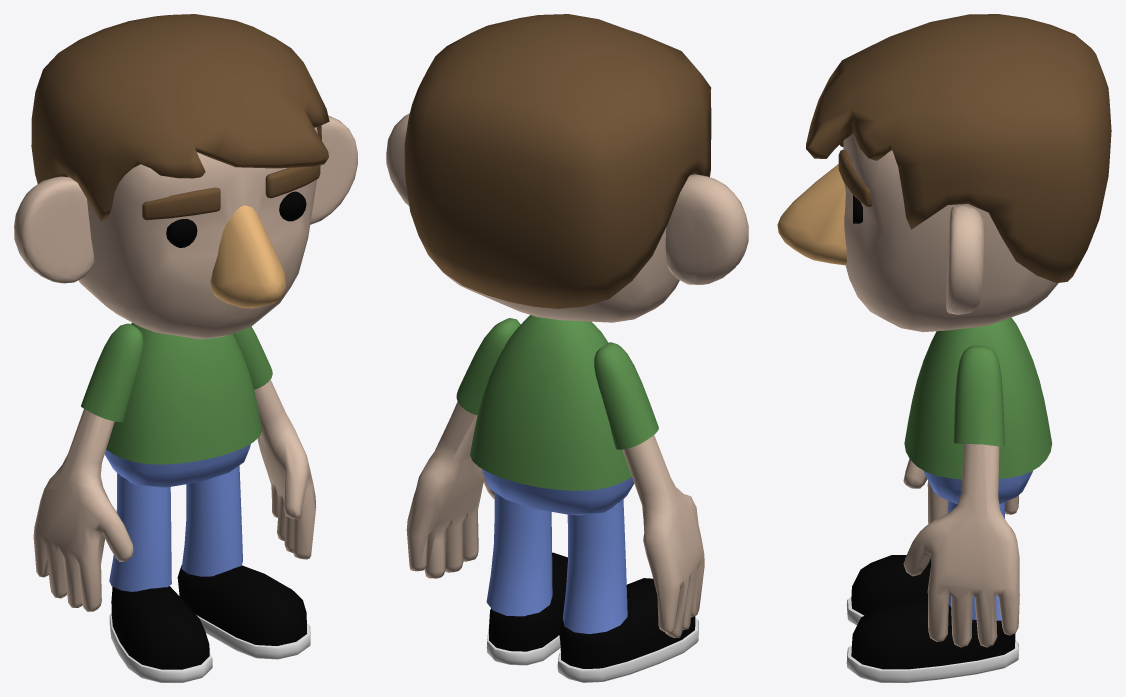
Rendered from avatar.glb.
3 views of the same model, side by side, from view 1: azimuth 30°, elevation 25°; view 2: azimuth 150°, elevation 25°; view 3: azimuth 270°, elevation 25° (orthographic). The views are drawn at different scales.
Visible parts, largest first — view 1: Hair_Parted, Head, Arms_Down, Shoes, Body, PantsLegs, Ears, Nose, Sleeves_Down, Eyebrows, PantsTop, Eyes; view 2: Hair_Parted, Body, Arms_Down, PantsLegs, Shoes, Ears, Sleeves_Down, Head, PantsTop; view 3: Hair_Parted, Head, Arms_Down, Body, Shoes, Nose, Sleeves_Down, Ears, PantsTop, Eyebrows.
Part boxes in pixels (x1,y1,x2,y2): Hair_Parted: [31, 14, 329, 220]; Head: [67, 127, 317, 339]; Arms_Down: [33, 379, 316, 611]; Shoes: [109, 565, 310, 682]; Body: [106, 322, 262, 464]; PantsLegs: [109, 465, 242, 591]; Ears: [14, 115, 357, 283]; Nose: [210, 205, 285, 308]; Sleeves_Down: [81, 323, 272, 421]; Eyebrows: [142, 165, 320, 220]; PantsTop: [104, 444, 250, 487]; Eyes: [166, 191, 306, 247]; Hair_Parted: [404, 14, 711, 308]; Body: [470, 315, 631, 490]; Arms_Down: [406, 402, 704, 638]; PantsLegs: [486, 492, 627, 634]; Shoes: [486, 552, 698, 682]; Ears: [386, 113, 748, 284]; Sleeves_Down: [456, 318, 658, 449]; Head: [444, 227, 679, 322]; PantsTop: [482, 469, 634, 515]; Hair_Parted: [806, 14, 1111, 282]; Head: [843, 133, 1058, 332]; Arms_Down: [903, 444, 1019, 647]; Body: [904, 317, 1052, 479]; Shoes: [846, 555, 1018, 682]; Nose: [777, 164, 846, 265]; Sleeves_Down: [953, 345, 1004, 446]; Ears: [946, 205, 984, 314]; PantsTop: [923, 471, 1032, 503]; Eyebrows: [838, 140, 872, 206].
Size of the model in its own units: 0.3989 by 0.6685 by 0.3335.
